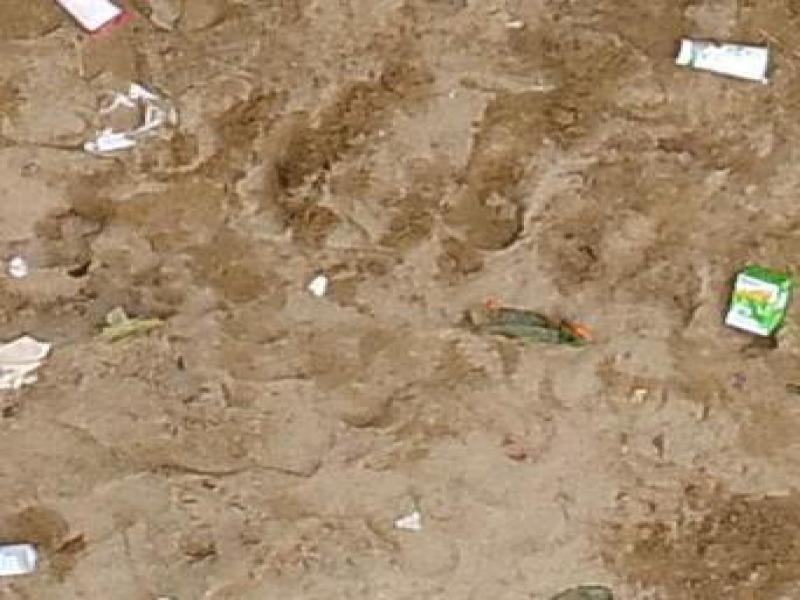bottle: (716, 258, 796, 342), (663, 30, 778, 87), (68, 0, 124, 42), (0, 537, 38, 575)
